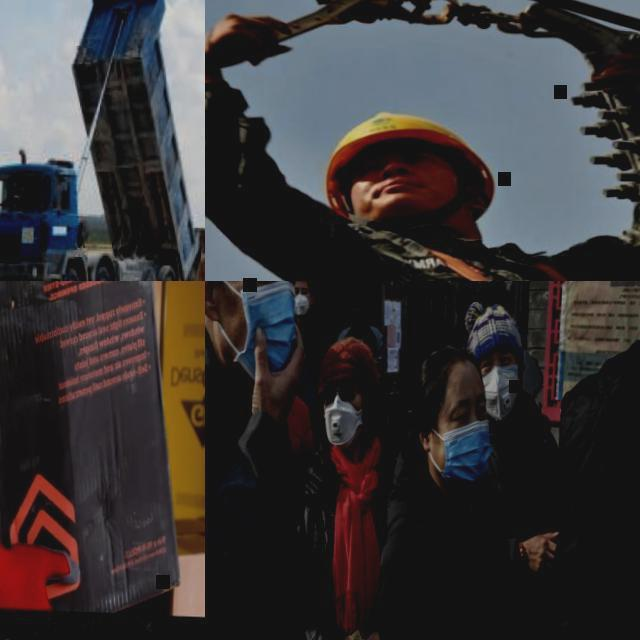machinery: (0, 0, 205, 281)
mask: (233, 281, 301, 388), (439, 418, 494, 494), (482, 362, 523, 422), (322, 396, 362, 452), (294, 294, 310, 319), (350, 313, 366, 330)
no_helmet: (415, 345, 486, 408), (318, 336, 382, 393), (467, 300, 527, 356), (346, 282, 367, 304), (456, 284, 473, 302), (519, 312, 530, 325)
no_mask: (356, 165, 482, 212)
no_vest: (205, 351, 332, 640), (300, 442, 409, 640), (388, 501, 532, 640), (568, 366, 640, 640), (482, 416, 559, 640), (298, 331, 322, 376), (518, 324, 529, 346), (456, 320, 466, 342)
person: (205, 11, 640, 281), (454, 301, 572, 640), (544, 281, 640, 640), (0, 281, 103, 610), (319, 107, 499, 220), (451, 288, 475, 350), (518, 308, 529, 346)
